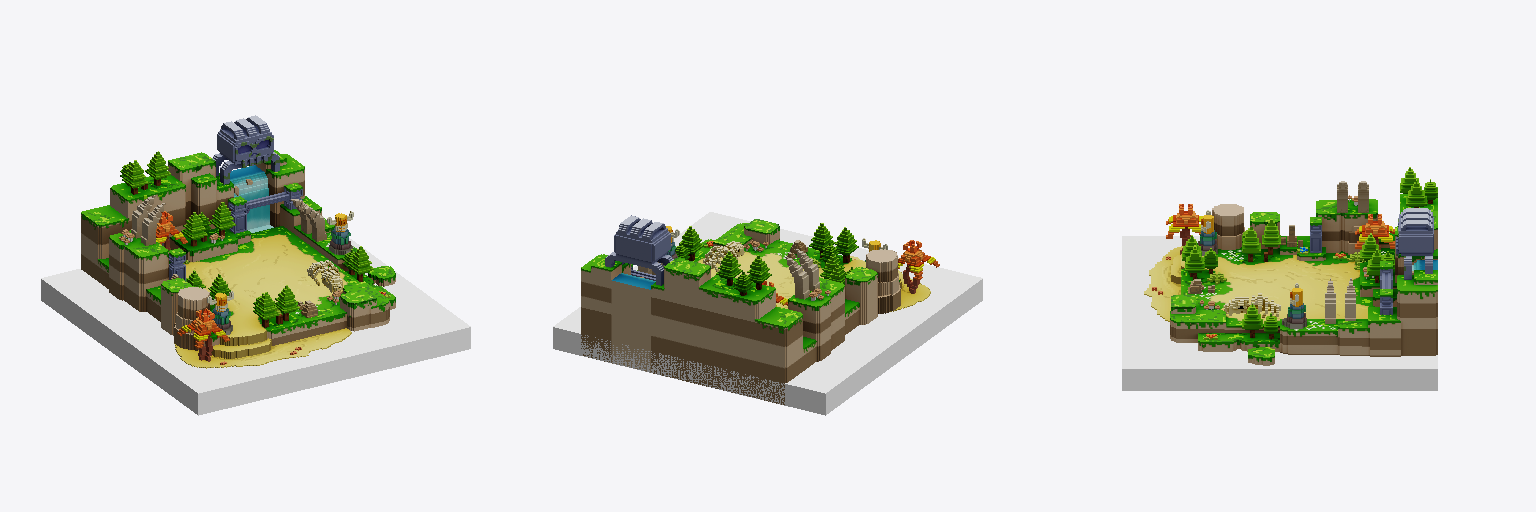
3 renders of one model, left to right at view 1: azimuth 30°, elevation 25°; view 2: azimuth 150°, elevation 25°; view 3: azimuth 270°, elevation 25°, orthographic.
Parts seen in each view (by area): view 1: BattleMap; view 2: BattleMap; view 3: BattleMap.
Boxes of the visible parts, <box> form: BattleMap: <box>41,115,470,415</box>; BattleMap: <box>553,212,982,415</box>; BattleMap: <box>1122,167,1437,390</box>.
Size of the model in its own units: 78.74 by 37.8 by 78.77.
Materials: 2 (1 with a texture image).